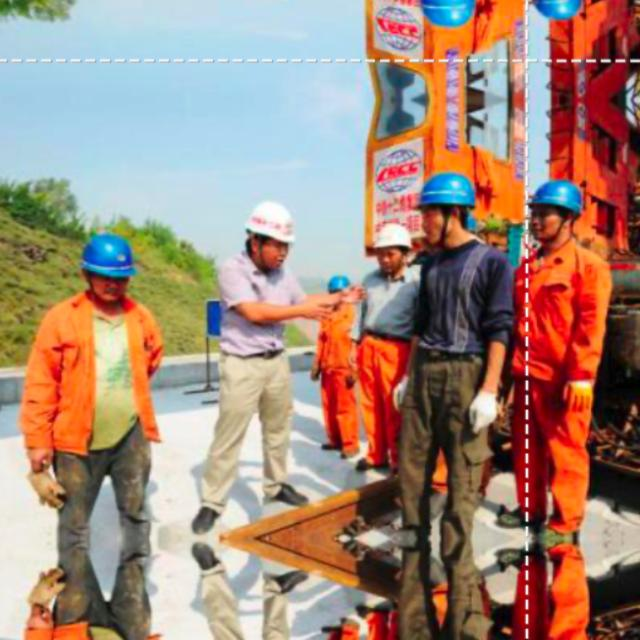safetyhelmet: (82, 234, 136, 277), (246, 202, 295, 243), (420, 173, 475, 208), (528, 181, 582, 216), (424, 0, 475, 28), (534, 0, 582, 20), (374, 224, 411, 249), (328, 275, 350, 293)
